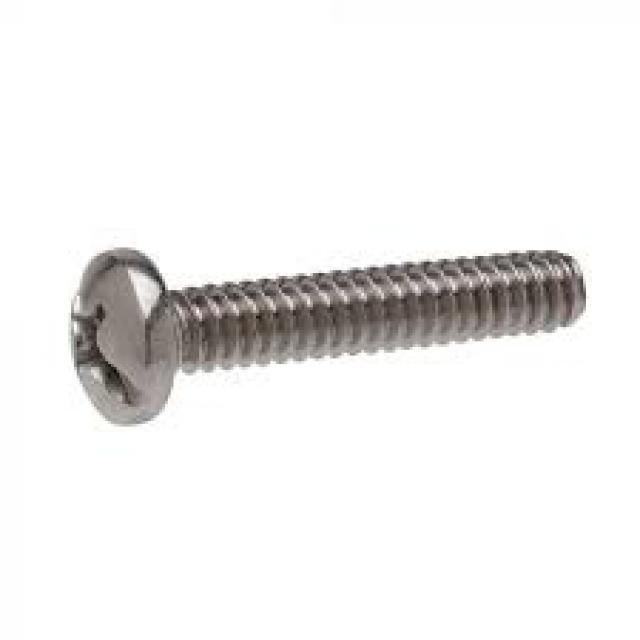Screw: (68, 247, 589, 430)
